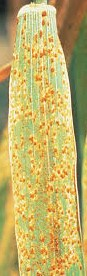Leaf Rust: (13, 45, 83, 262)
